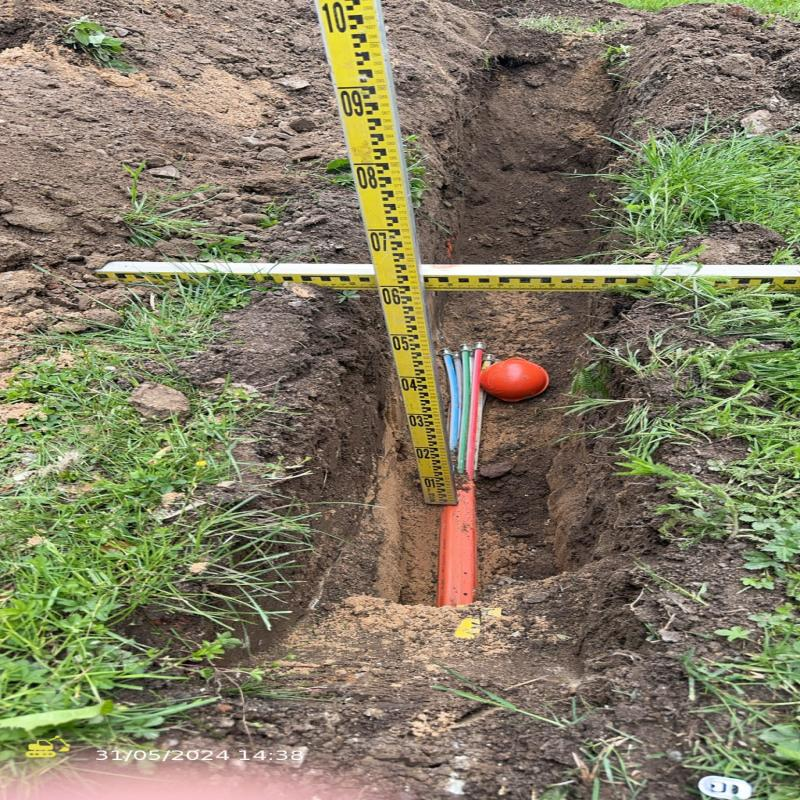Kugelmarker: (477, 359, 552, 400)
Orang-Speednetrohrchen: (435, 342, 496, 605)
